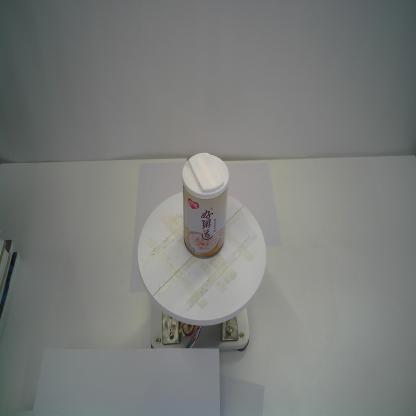Canned Food: (182, 152, 230, 259)
